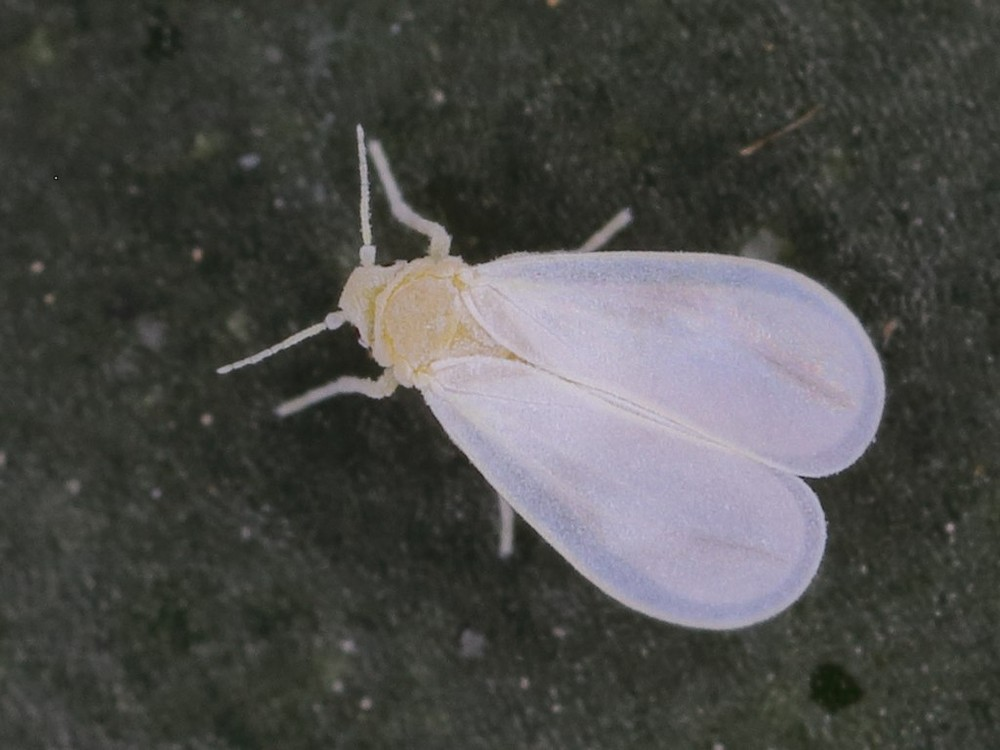Mosca Blanca: (235, 111, 911, 660)
